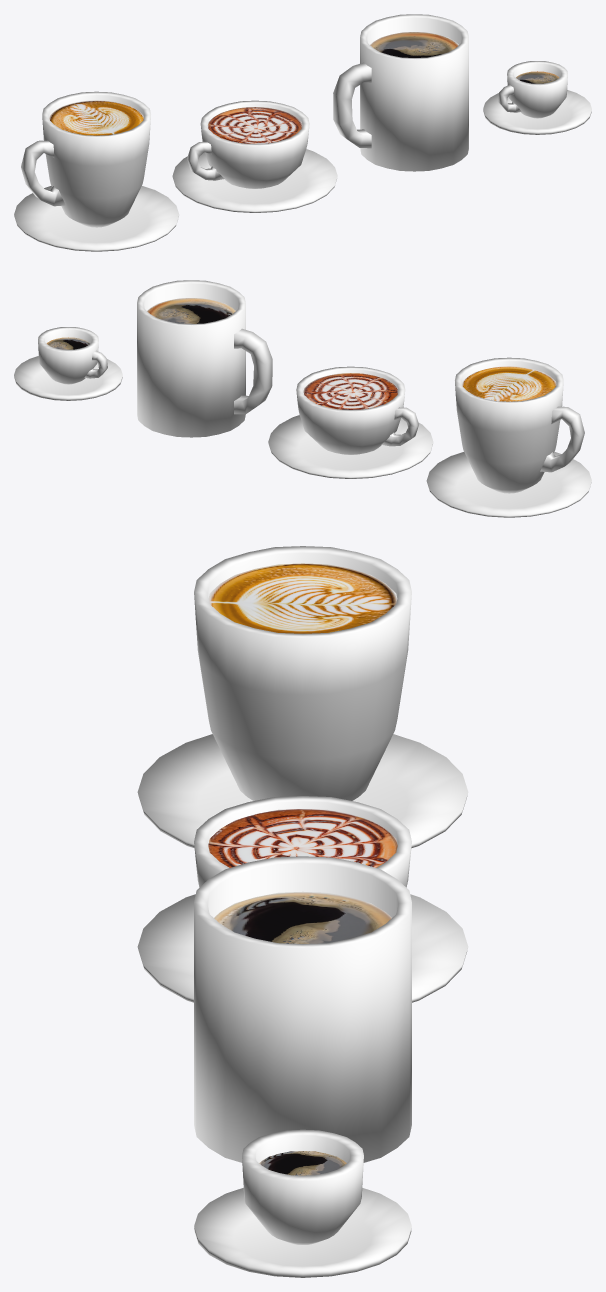
Rendered from coffee.fbx.
The picture shows the model from 3 angles, top to bottom: view 1: azimuth 30°, elevation 25°; view 2: azimuth 150°, elevation 25°; view 3: azimuth 270°, elevation 25°; orthographic projection. The views are drawn at different scales.
Visible parts, largest first — view 1: coffee_black_02, coffee_latte_02, coffee_latte_03, coffee_cappuccino_02, coffee_cappuccino_03, coffee_blackEsspresso_02, coffee_cappuccino_01, coffee_blackEsspresso_03, coffee_latte_01, coffee_black_01, coffee_blackEsspresso_01; view 2: coffee_black_02, coffee_latte_02, coffee_latte_03, coffee_cappuccino_02, coffee_cappuccino_03, coffee_blackEsspresso_02, coffee_cappuccino_01, coffee_blackEsspresso_03, coffee_latte_01, coffee_black_01, coffee_blackEsspresso_01; view 3: coffee_black_02, coffee_latte_02, coffee_latte_03, coffee_blackEsspresso_03, coffee_latte_01, coffee_blackEsspresso_02, coffee_cappuccino_03, coffee_cappuccino_01, coffee_black_01, coffee_cappuccino_02, coffee_blackEsspresso_01.
Boxes of the visible parts, bbox=[...] form: coffee_black_02: bbox=[333, 14, 468, 171]; coffee_latte_02: bbox=[21, 91, 150, 227]; coffee_latte_03: bbox=[14, 185, 179, 251]; coffee_cappuccino_02: bbox=[187, 100, 309, 188]; coffee_cappuccino_03: bbox=[172, 149, 337, 212]; coffee_blackEsspresso_02: bbox=[498, 61, 567, 118]; coffee_cappuccino_01: bbox=[207, 107, 302, 143]; coffee_blackEsspresso_03: bbox=[483, 90, 591, 134]; coffee_latte_01: bbox=[49, 100, 143, 135]; coffee_black_01: bbox=[370, 32, 458, 57]; coffee_blackEsspresso_01: bbox=[516, 71, 559, 83]; coffee_black_02: bbox=[137, 280, 272, 437]; coffee_latte_02: bbox=[455, 357, 584, 493]; coffee_latte_03: bbox=[426, 451, 591, 517]; coffee_cappuccino_02: bbox=[296, 366, 418, 454]; coffee_cappuccino_03: bbox=[268, 415, 433, 478]; coffee_blackEsspresso_02: bbox=[38, 327, 107, 384]; coffee_cappuccino_01: bbox=[303, 373, 398, 409]; coffee_blackEsspresso_03: bbox=[14, 356, 122, 400]; coffee_latte_01: bbox=[462, 366, 556, 401]; coffee_black_01: bbox=[147, 298, 235, 323]; coffee_blackEsspresso_01: bbox=[46, 337, 89, 349]; coffee_black_02: bbox=[194, 856, 411, 1162]; coffee_latte_02: bbox=[194, 546, 411, 800]; coffee_latte_03: bbox=[137, 734, 468, 848]; coffee_blackEsspresso_03: bbox=[194, 1188, 411, 1277]; coffee_latte_01: bbox=[208, 563, 397, 633]; coffee_blackEsspresso_02: bbox=[242, 1129, 363, 1244]; coffee_cappuccino_03: bbox=[137, 894, 468, 1002]; coffee_cappuccino_01: bbox=[208, 809, 397, 867]; coffee_black_01: bbox=[214, 891, 391, 943]; coffee_cappuccino_02: bbox=[194, 796, 411, 887]; coffee_blackEsspresso_01: bbox=[259, 1151, 346, 1175].
Size of the model in its own units: 68.22 by 12.94 by 17.42.
